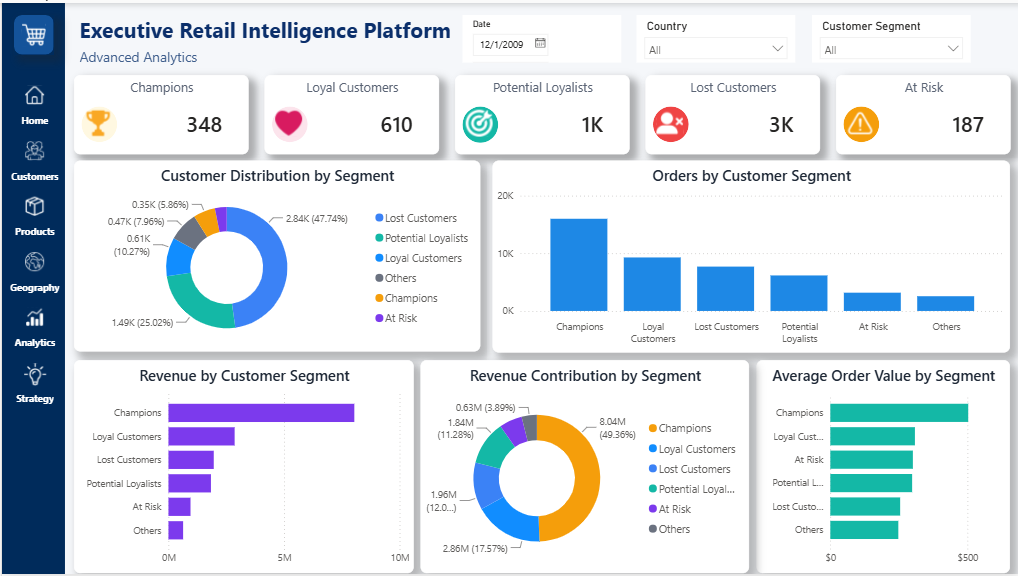

The dashboard page shown, as its layout file describes it:
{"tool":"powerbi","page":{"name":"Advanced Analytics","canvas":[1280,720],"ordinal":4},"visuals":[{"type":"cardVisual","title":"Champions","fields":{"Data":["Customer_Summary.Champions"]},"box":[90,90,220,100],"z":0},{"type":"cardVisual","title":"Loyal Customers","fields":{"Data":["Customer_Summary.Loyal Customers"]},"box":[330,90,220,100],"z":1000},{"type":"cardVisual","title":"Potential Loyalists","fields":{"Data":["Customer_Summary.Potential Loyalists"]},"box":[570,90,220,100],"z":2000},{"type":"cardVisual","title":"Lost Customers","fields":{"Data":["Customer_Summary.Lost Customers KPI"]},"box":[810,90,220,100],"z":3000},{"type":"cardVisual","title":"At Risk","fields":{"Data":["Customer_Summary.At Risk KPI"]},"box":[1050,90.7,220,100.2],"z":4000},{"type":"donutChart","title":"Customer Distribution by Segment","fields":{"Category":["Customer_Summary.Customer Segment"],"Y":["Count(Customer_Summary.Customer ID)"]},"box":[91.6,199.2,511.9,241],"z":5000},{"type":"clusteredBarChart","title":"Revenue by Customer Segment","fields":{"Category":["Customer_Summary.Customer Segment"],"Y":["Customer_Summary.Revenue KPI"]},"box":[91.6,450.1,428.2,268.9],"z":6000},{"type":"clusteredColumnChart","title":"Orders by Customer Segment","fields":{"Category":["Customer_Summary.Customer Segment"],"Y":["Customer_Summary.Orders KPI"]},"box":[618,198.4,652,241.9],"z":7000},{"type":"clusteredBarChart","title":"Average Order Value by Segment","fields":{"Category":["Customer_Summary.Customer Segment"],"Y":["Fact_Sales.Average Order Value"]},"box":[950.6,449.8,319.4,268.3],"z":8000},{"type":"donutChart","title":"Revenue Contribution by Segment","fields":{"Category":["Customer_Summary.Customer Segment"],"Y":["Customer_Summary.Revenue KPI"]},"box":[527,450.1,414.3,268.9],"z":9000},{"type":"shape","box":[0,0,79.4,720],"z":10000},{"type":"actionButton","box":[15,15,50,50],"z":11000},{"type":"actionButton","box":[4,100,75,60],"z":12000},{"type":"actionButton","box":[4,170,75,60],"z":13000},{"type":"actionButton","box":[4,240,75,60],"z":14000},{"type":"actionButton","box":[4,310,75,60],"z":15000},{"type":"actionButton","box":[4,380,75,60],"z":16000},{"type":"textbox","title":"Executive Retail Intelligence Platform","box":[92.6,15.1,498.9,64.3],"z":17000},{"type":"slicer","fields":{"Values":["DateTable.Date"]},"box":[580,15.1,200,60],"z":18000},{"type":"slicer","fields":{"Values":["Fact_Sales.Country"]},"box":[800,15.1,200,60],"z":19000},{"type":"slicer","fields":{"Values":["Customer_Summary.Customer Segment"]},"box":[1020,15.1,200,60],"z":20000},{"type":"shape","box":[100,130,45,45],"z":21000},{"type":"actionButton","box":[101,131,42,42],"z":22000},{"type":"shape","box":[340,130,45,45],"z":23000},{"type":"actionButton","box":[341,131,42,42],"z":24000},{"type":"shape","box":[580,130,45,45.8],"z":25000},{"type":"actionButton","box":[581,131,42,42],"z":26000},{"type":"shape","box":[820,130,45,45],"z":27000},{"type":"shape","box":[1060,130,45,45],"z":28000},{"type":"actionButton","box":[821,131,42,42],"z":29000},{"type":"actionButton","box":[1061,131,42,42],"z":30000},{"type":"actionButton","box":[4,450,75.6,60.5],"z":30001}]}

Visuals, with their boxes on the page's 1280x720 design canvas (x1, y1, x2, y2). These are canvas units, not pixel positions in the 1018x576 screenshot, which may show the page scaled, cropped or inside an application window:
"Champions" cardVisual: <bbox>90, 90, 310, 190</bbox>
"Loyal Customers" cardVisual: <bbox>330, 90, 550, 190</bbox>
"Potential Loyalists" cardVisual: <bbox>570, 90, 790, 190</bbox>
"Lost Customers" cardVisual: <bbox>810, 90, 1030, 190</bbox>
"At Risk" cardVisual: <bbox>1050, 91, 1270, 191</bbox>
"Customer Distribution by Segment" donutChart: <bbox>92, 199, 604, 440</bbox>
"Revenue by Customer Segment" clusteredBarChart: <bbox>92, 450, 520, 719</bbox>
"Orders by Customer Segment" clusteredColumnChart: <bbox>618, 198, 1270, 440</bbox>
"Average Order Value by Segment" clusteredBarChart: <bbox>951, 450, 1270, 718</bbox>
"Revenue Contribution by Segment" donutChart: <bbox>527, 450, 941, 719</bbox>
shape: <bbox>0, 0, 79, 720</bbox>
actionButton: <bbox>15, 15, 65, 65</bbox>
actionButton: <bbox>4, 100, 79, 160</bbox>
actionButton: <bbox>4, 170, 79, 230</bbox>
actionButton: <bbox>4, 240, 79, 300</bbox>
actionButton: <bbox>4, 310, 79, 370</bbox>
actionButton: <bbox>4, 380, 79, 440</bbox>
"Executive Retail Intelligence Platform" textbox: <bbox>93, 15, 592, 79</bbox>
slicer - DateTable.Date: <bbox>580, 15, 780, 75</bbox>
slicer - Fact_Sales.Country: <bbox>800, 15, 1000, 75</bbox>
slicer - Customer_Summary.Customer Segment: <bbox>1020, 15, 1220, 75</bbox>
shape: <bbox>100, 130, 145, 175</bbox>
actionButton: <bbox>101, 131, 143, 173</bbox>
shape: <bbox>340, 130, 385, 175</bbox>
actionButton: <bbox>341, 131, 383, 173</bbox>
shape: <bbox>580, 130, 625, 176</bbox>
actionButton: <bbox>581, 131, 623, 173</bbox>
shape: <bbox>820, 130, 865, 175</bbox>
shape: <bbox>1060, 130, 1105, 175</bbox>
actionButton: <bbox>821, 131, 863, 173</bbox>
actionButton: <bbox>1061, 131, 1103, 173</bbox>
actionButton: <bbox>4, 450, 80, 510</bbox>
